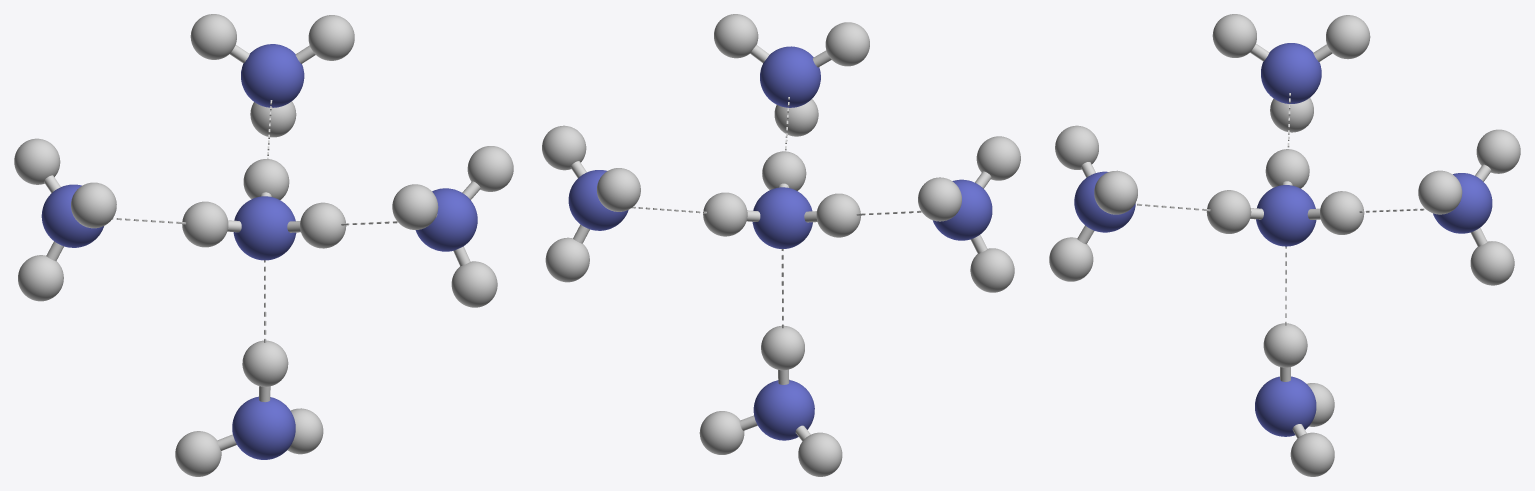
File: NH3_hkey.gltf
The picture shows the model from 3 angles, left to right: view 1: azimuth 30°, elevation 25°; view 2: azimuth 150°, elevation 25°; view 3: azimuth 270°, elevation 25°; orthographic projection. The views are drawn at different scales.
Parts seen in each view (by area): view 1: node_nh3_switch_Btn_qiugun_-63822; view 2: node_nh3_switch_Btn_qiugun_-63822; view 3: node_nh3_switch_Btn_qiugun_-63822.
Boxes of the visible parts, x1,y1,x2,y2 form: node_nh3_switch_Btn_qiugun_-63822: (14,14,513,476); node_nh3_switch_Btn_qiugun_-63822: (542,14,1020,476); node_nh3_switch_Btn_qiugun_-63822: (1049,14,1520,476).
Bounding box in the file's own units: 0.8671 × 0.7366 × 0.9045.
